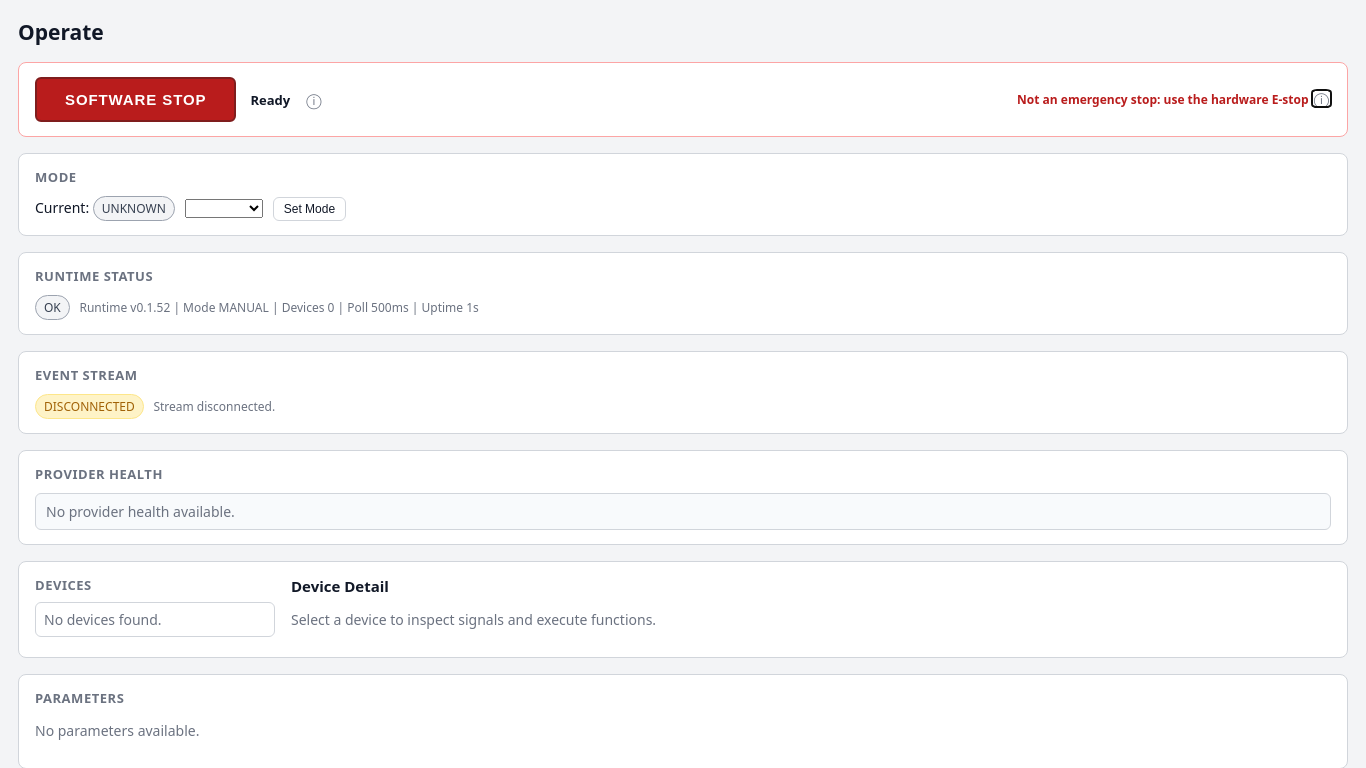
Scenario: Operate.svelte — the software stop card is one row (#613) › opens a detail from the keyboard and closes it with Escape
This screenshot has width=1366, height=768.
Check: the text with test id "estop-state" reads "Ready", box 250,90 -> 290,108
Click the button named "Why this is not an emergency stop" at (1321, 98), box 1312,91 -> 1331,106
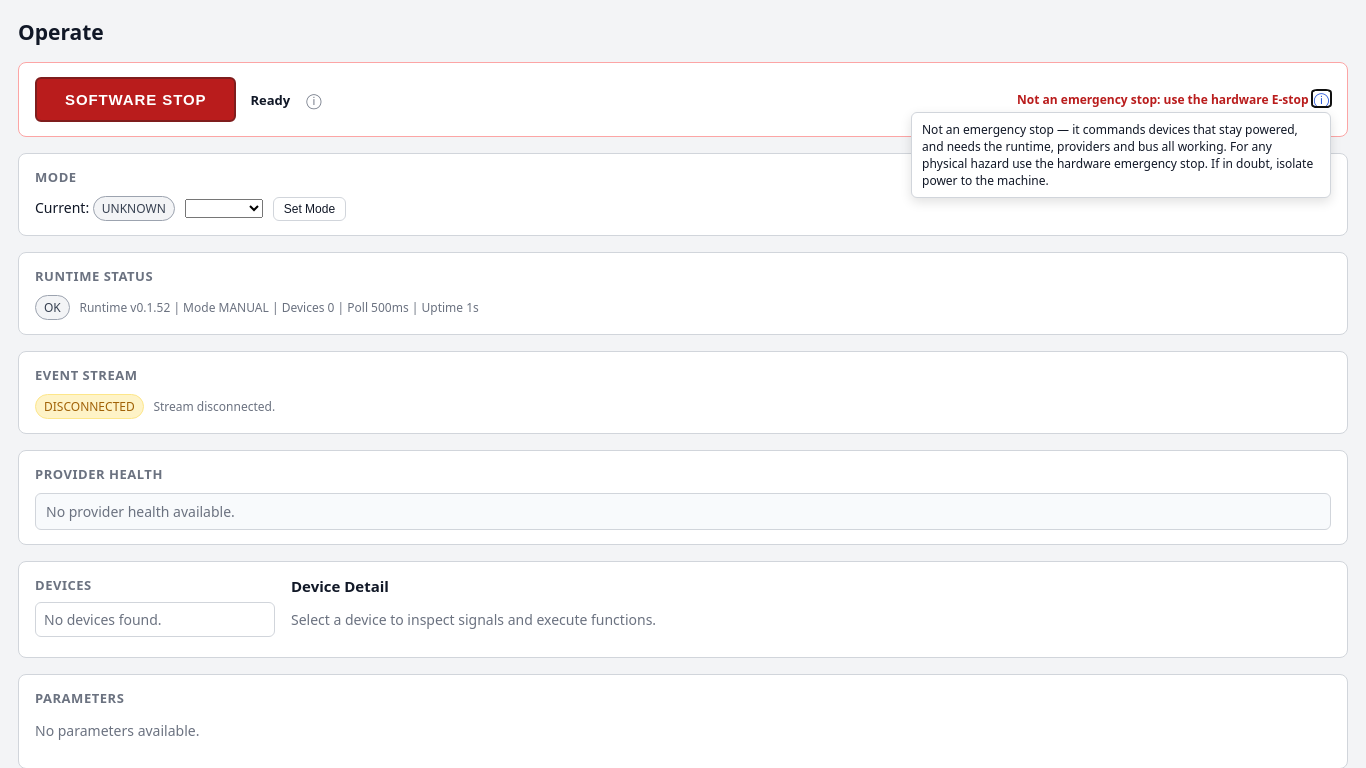
Check: the button named "Why this is not an emergency stop" is expanded
Press Escape in the button named "Why this is not an emergency stop", box 1312,91 -> 1331,106
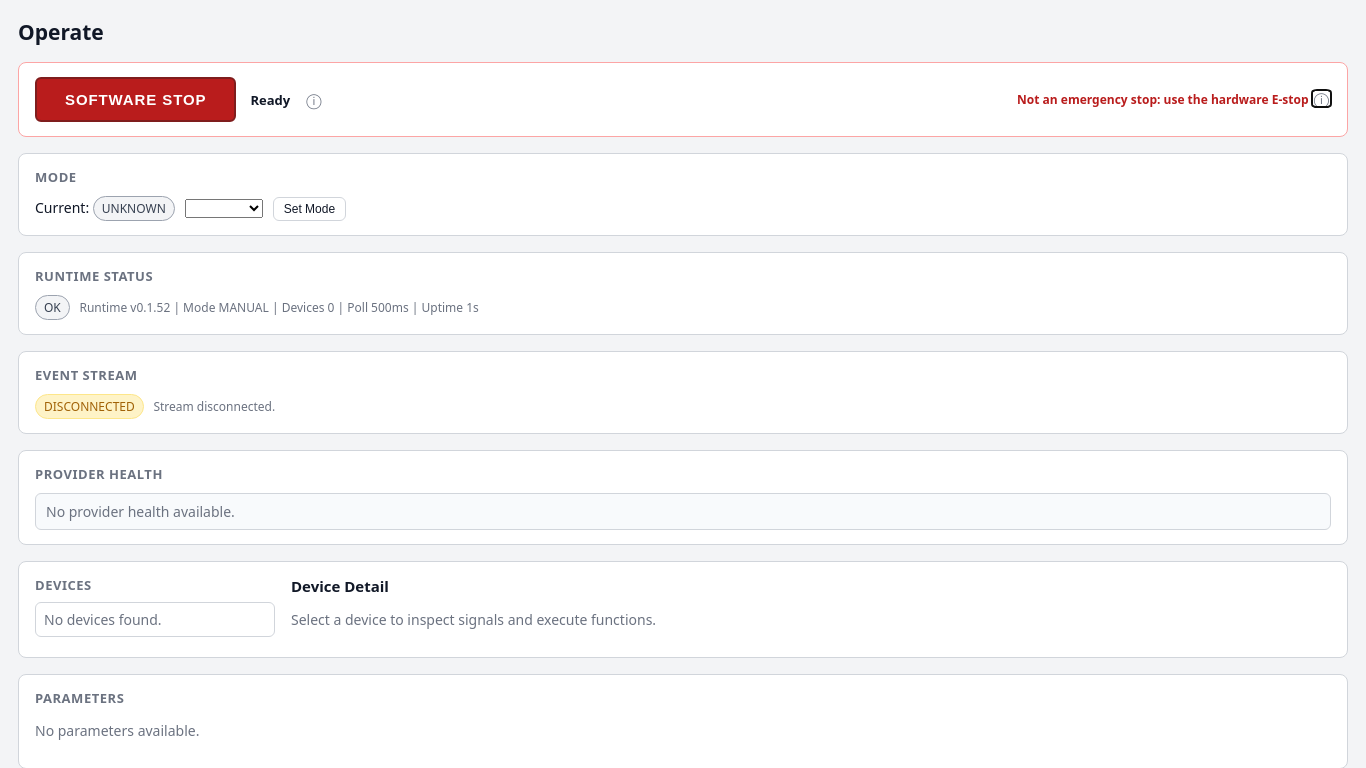
Check: the button named "Why this is not an emergency stop" is collapsed, box 1312,91 -> 1331,106
Check: the text "isolate power to the machine" is gone
